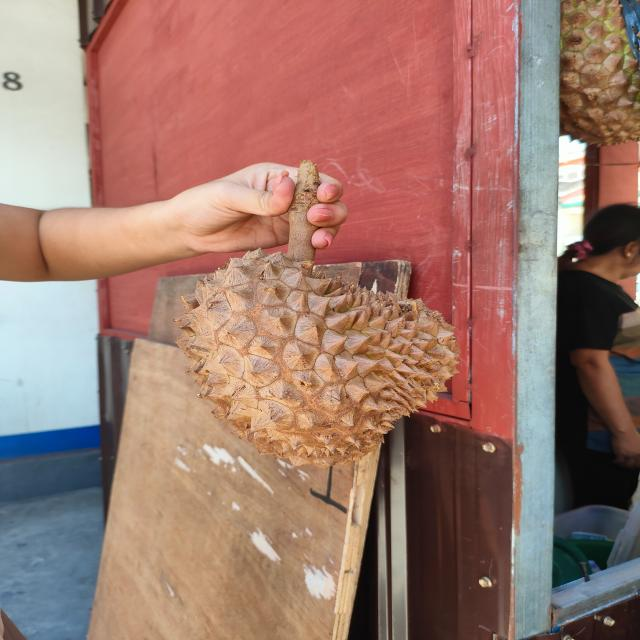mature: (173, 249, 462, 468)
